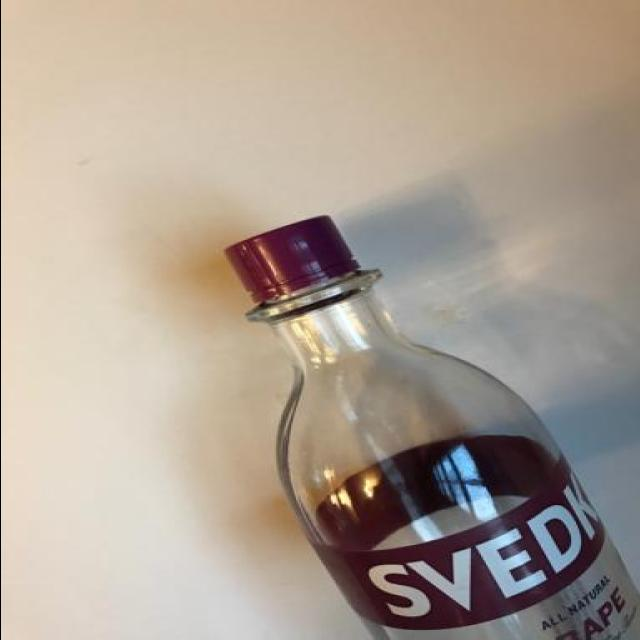litter: (215, 212, 640, 638)
